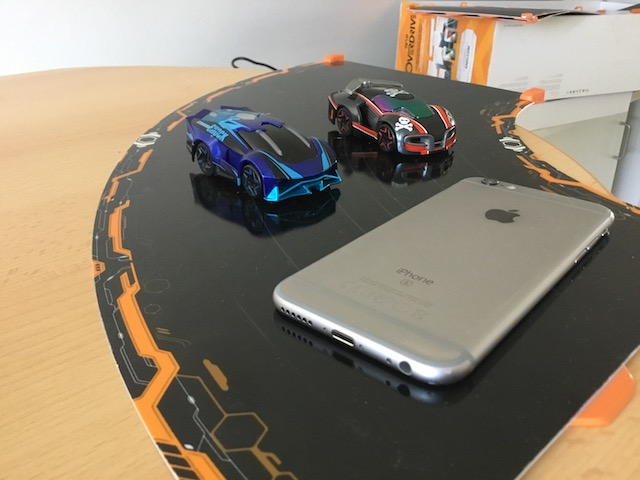car-blue: (179, 100, 345, 207)
car-red: (325, 74, 460, 158)
phone: (270, 171, 618, 390)
